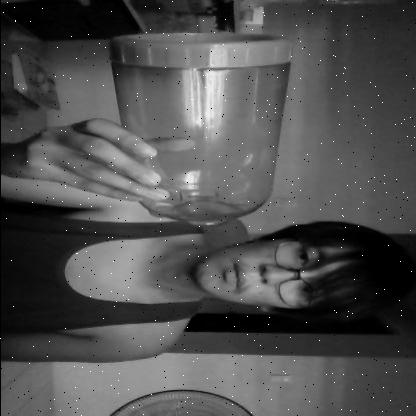Plastic Bottle: (104, 25, 300, 229)
